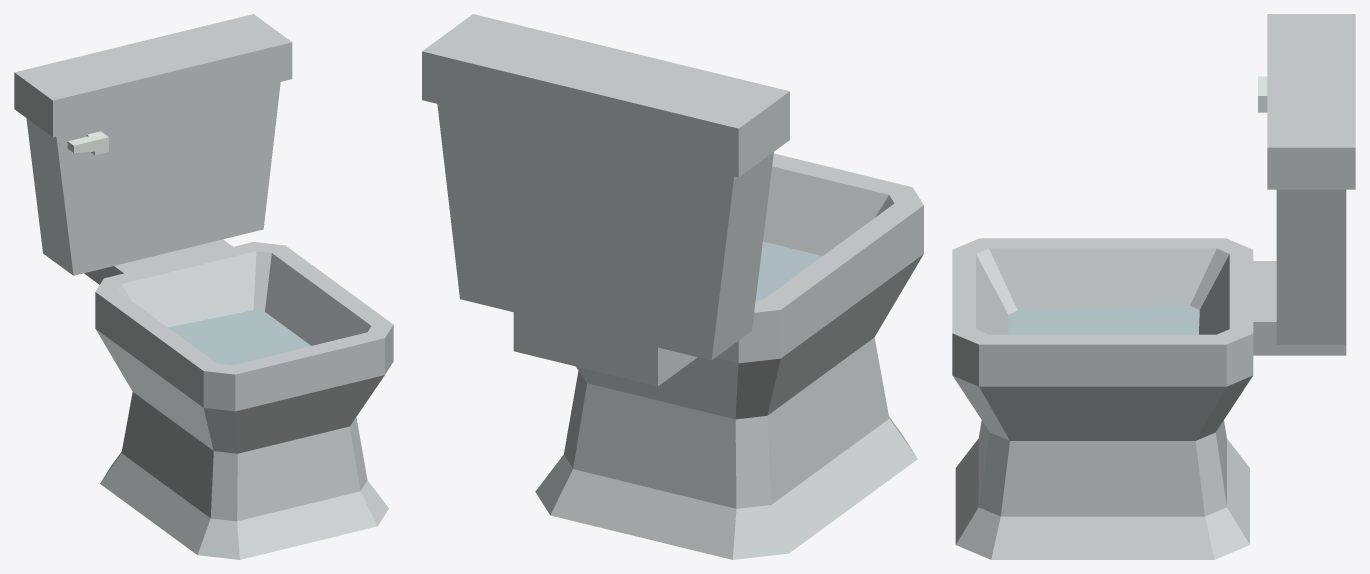
Rendered from toiletSquare.glb.
3 views of the same model, side by side, from view 1: azimuth 30°, elevation 25°; view 2: azimuth 150°, elevation 25°; view 3: azimuth 270°, elevation 25° (orthographic). The views are drawn at different scales.
Visible parts, largest first — view 1: toiletSquare; view 2: toiletSquare; view 3: toiletSquare.
Boxes of the visible parts, left/top/right/bottom form: toiletSquare: left=14, top=14, right=393, bottom=559; toiletSquare: left=422, top=14, right=923, bottom=559; toiletSquare: left=952, top=14, right=1355, bottom=559.
Bounding box in the file's own units: 0.6968 × 1.03 × 0.8886.
